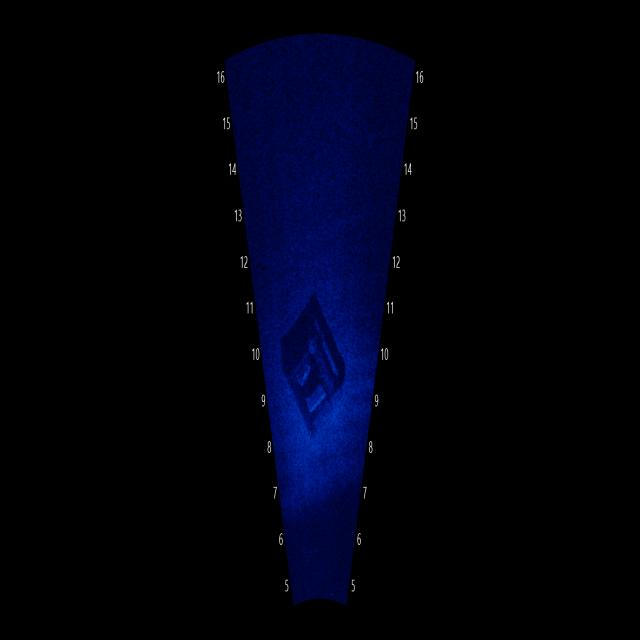square: (276, 270, 352, 448)
